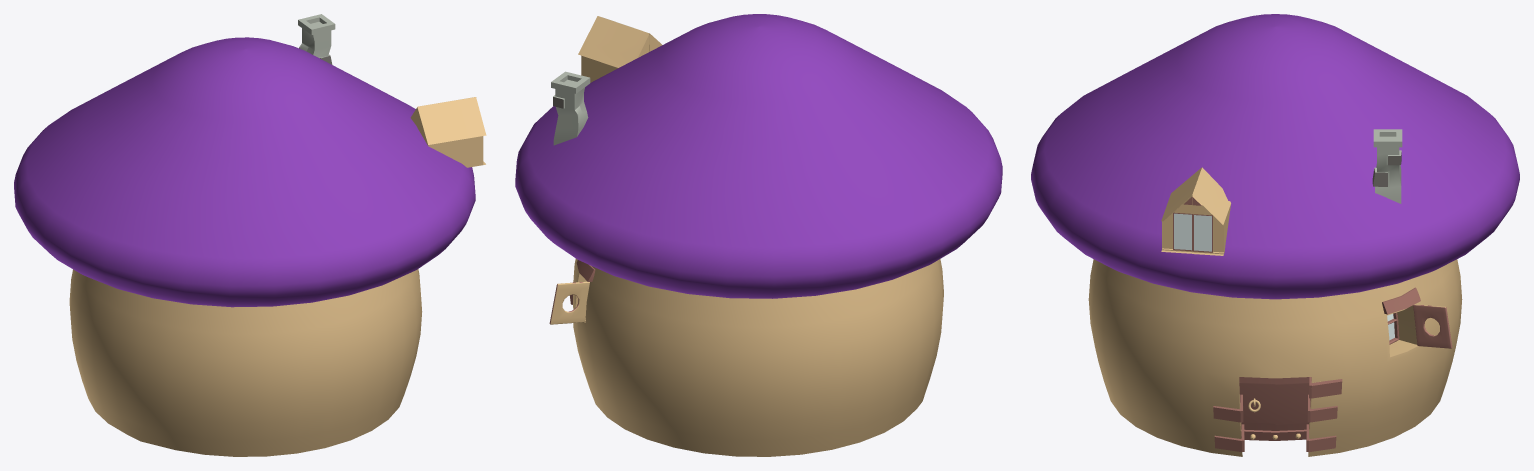
Rendered from hut4.fbx.
3 views of the same model, side by side, from view 1: azimuth 30°, elevation 25°; view 2: azimuth 150°, elevation 25°; view 3: azimuth 270°, elevation 25° (orthographic). The views are drawn at different scales.
Parts seen in each view (by area): view 1: Cylinder, Cylinder.004, Cube; view 2: Cylinder, Cylinder.004, Cube, Cylinder.002; view 3: Cylinder, Cylinder.004, Cube, Cylinder.002, Cylinder.006, Cylinder.005, Cylinder.001.
Part boxes in pixels (box(x1,y1,x2,y2)): Cylinder: box(14, 37, 475, 456); Cylinder.004: box(410, 97, 486, 167); Cube: box(298, 14, 335, 58); Cylinder: box(515, 14, 1002, 456); Cylinder.004: box(578, 16, 662, 82); Cube: box(551, 71, 590, 145); Cylinder.002: box(549, 281, 589, 324); Cylinder: box(1031, 14, 1519, 456); Cylinder.004: box(1161, 167, 1231, 255); Cube: box(1373, 129, 1402, 203); Cylinder.002: box(1413, 304, 1452, 348); Cylinder.006: box(1213, 394, 1337, 422); Cylinder.005: box(1214, 424, 1336, 452); Cylinder.001: box(1382, 287, 1420, 314).
Size of the model in its own units: 313 by 255 by 313.
